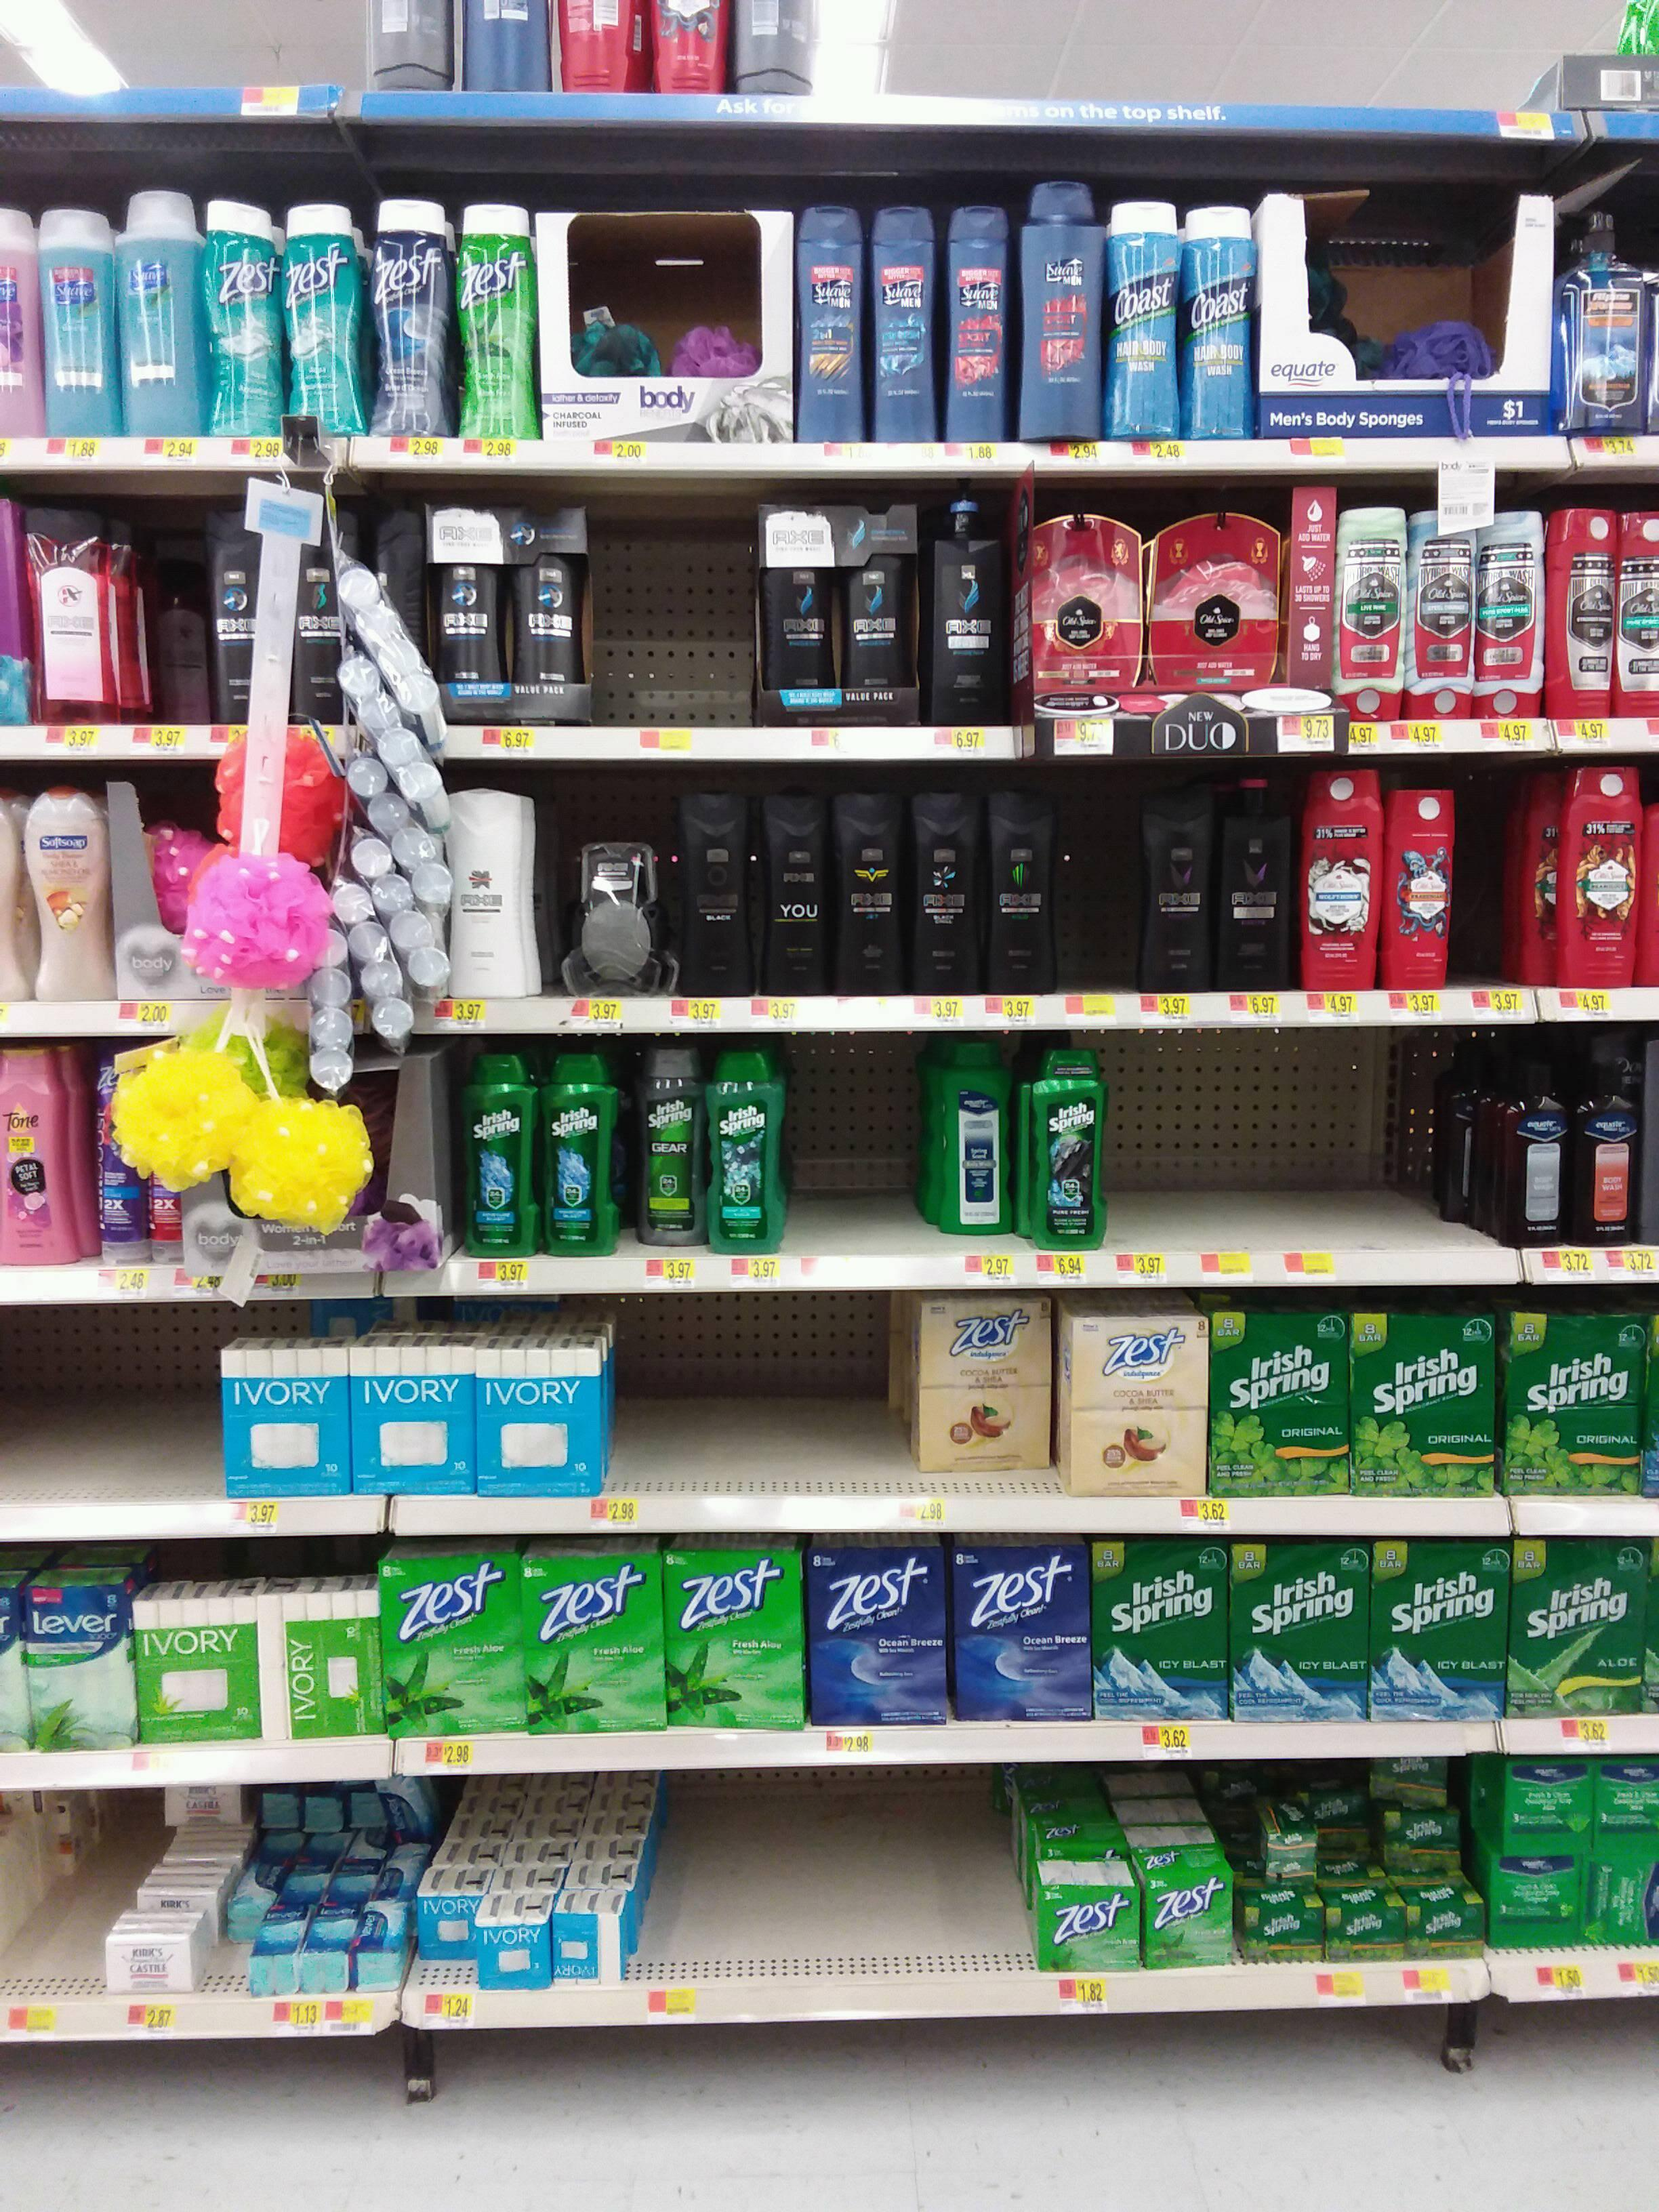empty: (1117, 1059, 1439, 1240), (673, 1796, 995, 1942), (622, 1322, 890, 1461), (605, 523, 746, 707), (28, 1350, 213, 1480), (796, 1061, 910, 1237), (1068, 796, 1129, 989), (1464, 782, 1513, 979)
misalignment: (1232, 1766, 1478, 1895)
